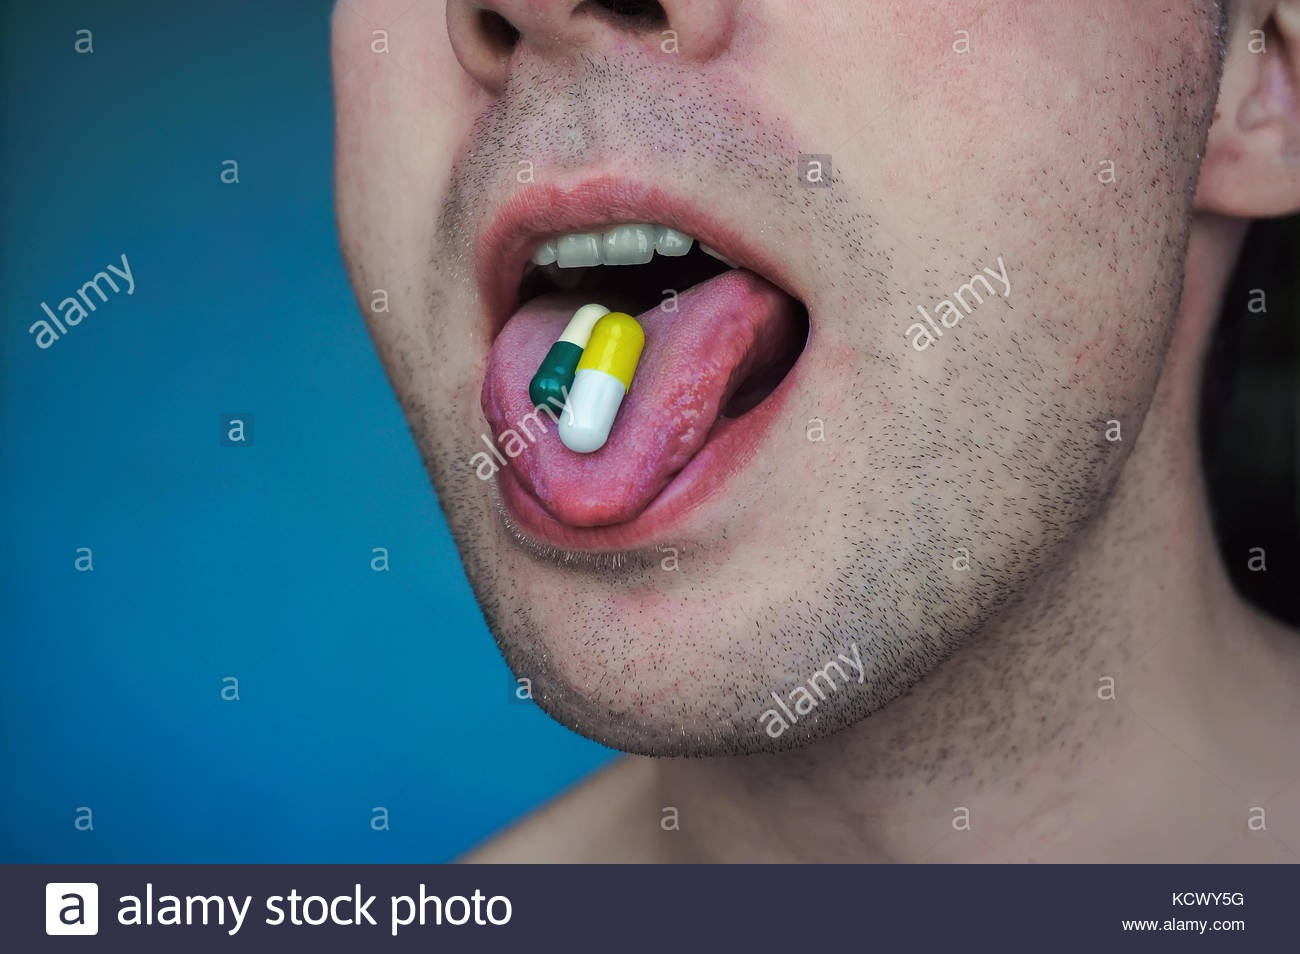pills: (556, 319, 650, 458), (531, 294, 612, 414)
